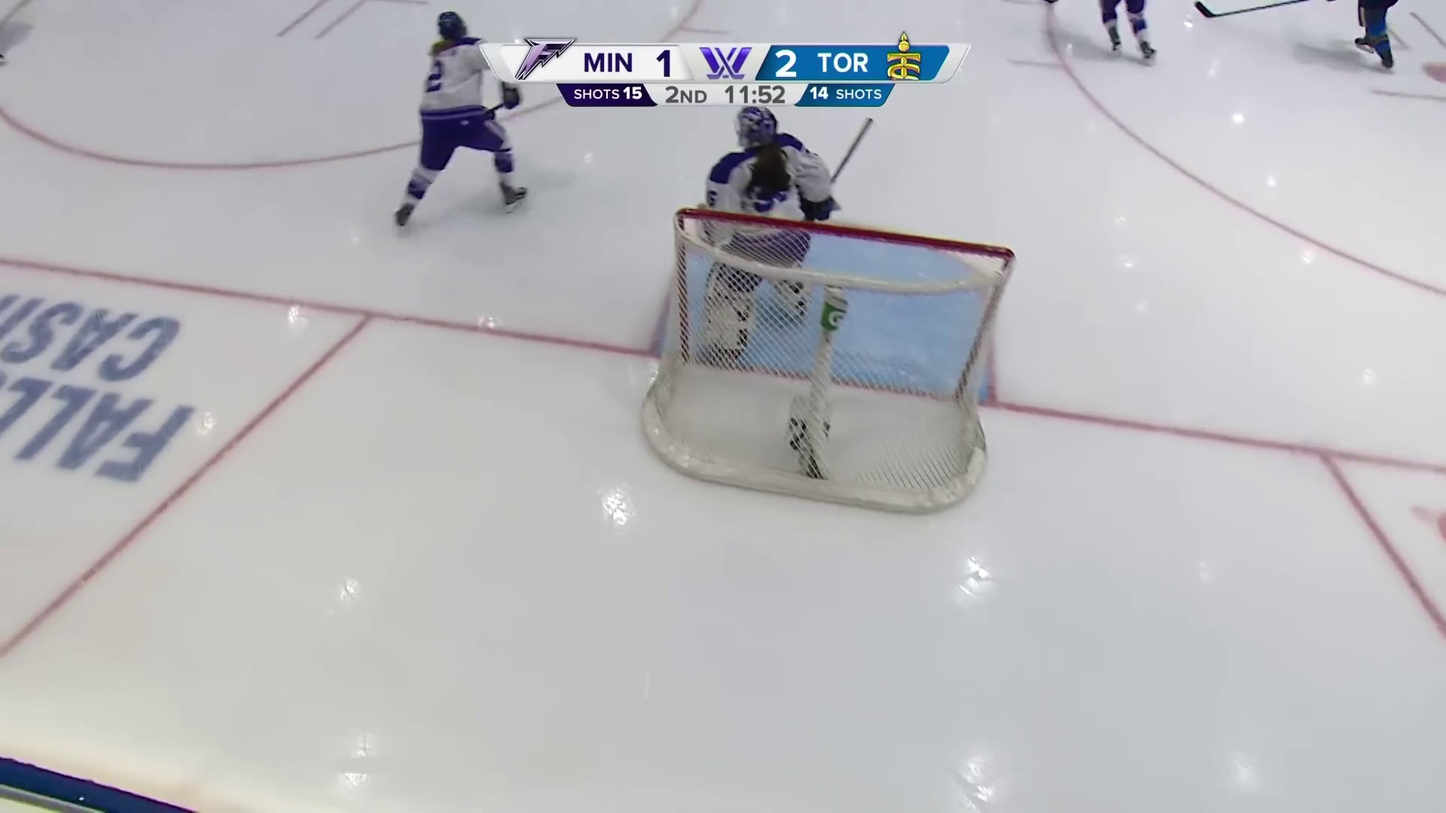goalkeeper: (689, 106, 842, 356)
player: (387, 6, 531, 234)
